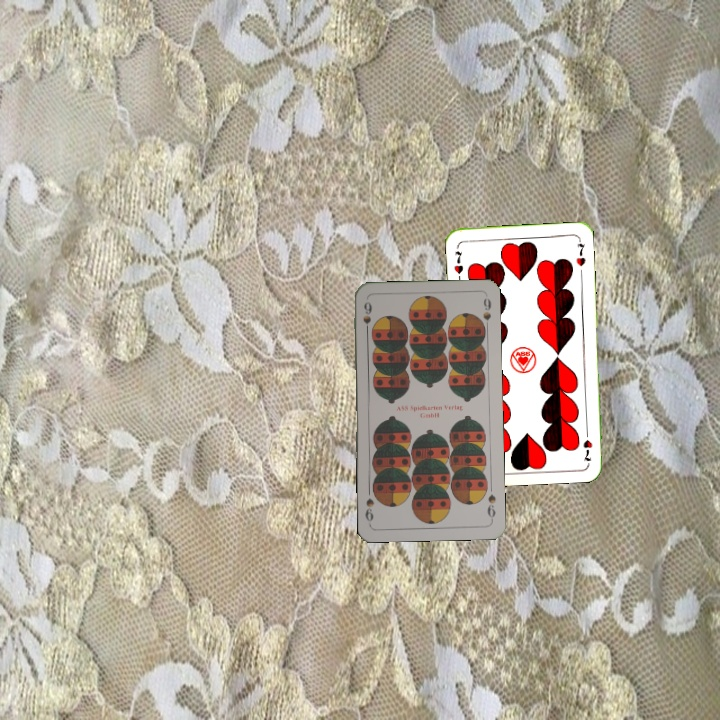H7: (579, 425, 595, 466), (450, 247, 466, 276)
S9: (359, 298, 374, 337), (484, 490, 498, 523)
